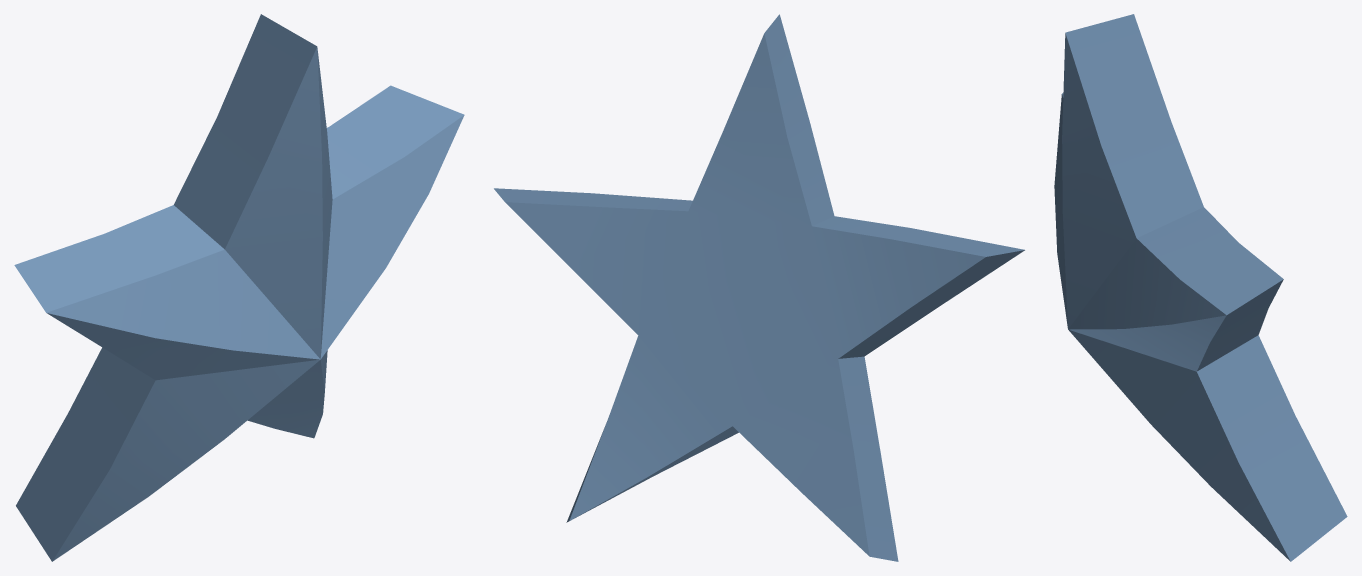
Rendered from BR2_Frame_Star.001 3.glb.
3 renders of one model, left to right at view 1: azimuth 30°, elevation 25°; view 2: azimuth 150°, elevation 25°; view 3: azimuth 270°, elevation 25°, orthographic. The views are drawn at different scales.
Parts seen in each view (by area): view 1: BR2_Frame_Star.001; view 2: BR2_Frame_Star.001; view 3: BR2_Frame_Star.001.
Boxes of the visible parts, box(x1,y1,x2,y2) form: BR2_Frame_Star.001: box(14, 14, 464, 561); BR2_Frame_Star.001: box(494, 14, 1024, 561); BR2_Frame_Star.001: box(1054, 14, 1347, 561).
Size of the model in its own units: 0.3705 by 0.3673 by 0.1986.
